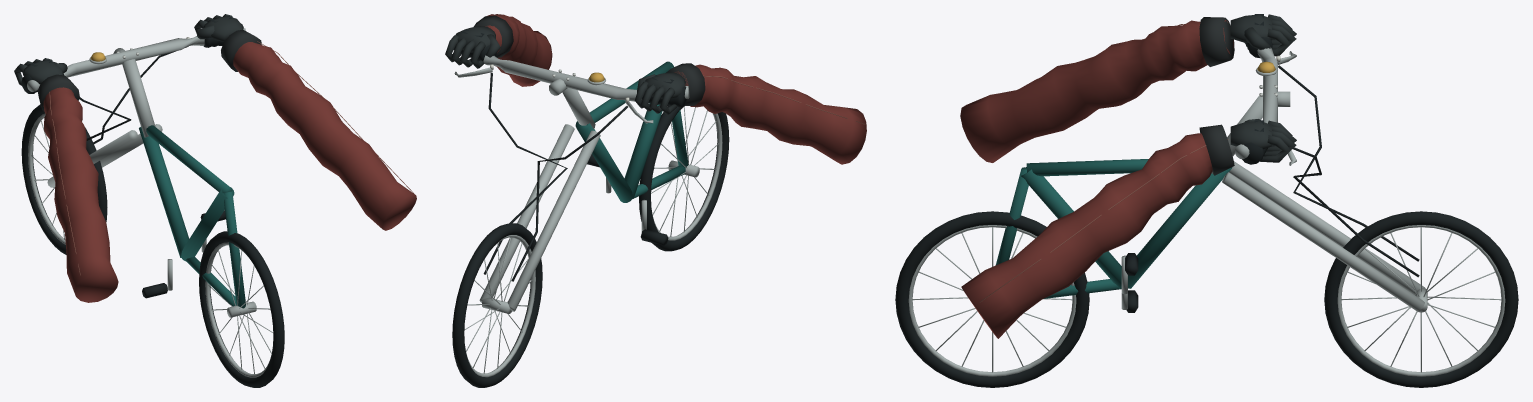
Rendered from bicycle-rider.glb.
3 renders of one model, left to right at view 1: azimuth 30°, elevation 25°; view 2: azimuth 150°, elevation 25°; view 3: azimuth 270°, elevation 25°, orthographic. The views are drawn at different scales.
Visible parts, largest first — view 1: steering-pivot-soft, bicycle-metal, steering-pivot-metal, rear-wheel-tire, rear-wheel-metal, front-wheel-tire, front-wheel-metal, pedal-pivot-soft; view 2: steering-pivot-soft, steering-pivot-metal, bicycle-metal, front-wheel-tire, rear-wheel-tire, front-wheel-metal, rear-wheel-metal, pedal-pivot-soft; view 3: steering-pivot-soft, steering-pivot-metal, front-wheel-tire, bicycle-metal, rear-wheel-tire, front-wheel-metal, rear-wheel-metal.
Part boxes in pixels (left/top/right/bottom): steering-pivot-soft: left=14, top=14, right=416, bottom=302; bicycle-metal: left=139, top=125, right=245, bottom=308; steering-pivot-metal: left=27, top=28, right=245, bottom=187; rear-wheel-tire: left=199, top=231, right=284, bottom=387; rear-wheel-metal: left=205, top=242, right=273, bottom=377; front-wheel-tire: left=21, top=104, right=107, bottom=254; front-wheel-metal: left=28, top=113, right=65, bottom=244; pedal-pivot-soft: left=142, top=210, right=225, bottom=298; steering-pivot-soft: left=445, top=14, right=866, bottom=281; steering-pivot-metal: left=454, top=55, right=689, bottom=311; bicycle-metal: left=575, top=61, right=688, bottom=202; front-wheel-tire: left=452, top=223, right=542, bottom=387; rear-wheel-tire: left=639, top=105, right=729, bottom=251; front-wheel-metal: left=464, top=235, right=535, bottom=377; rear-wheel-metal: left=651, top=106, right=722, bottom=240; pedal-pivot-soft: left=587, top=154, right=668, bottom=245; steering-pivot-soft: left=960, top=14, right=1419, bottom=338; steering-pivot-metal: left=1212, top=47, right=1424, bottom=311; front-wheel-tire: left=1324, top=211, right=1518, bottom=387; bicycle-metal: left=996, top=159, right=1232, bottom=298; rear-wheel-tire: left=895, top=211, right=1089, bottom=387; front-wheel-metal: left=1337, top=225, right=1505, bottom=376; rear-wheel-metal: left=908, top=225, right=1076, bottom=376.
Bounding box in the file's own units: 1.79 × 1.32 × 2.35.
